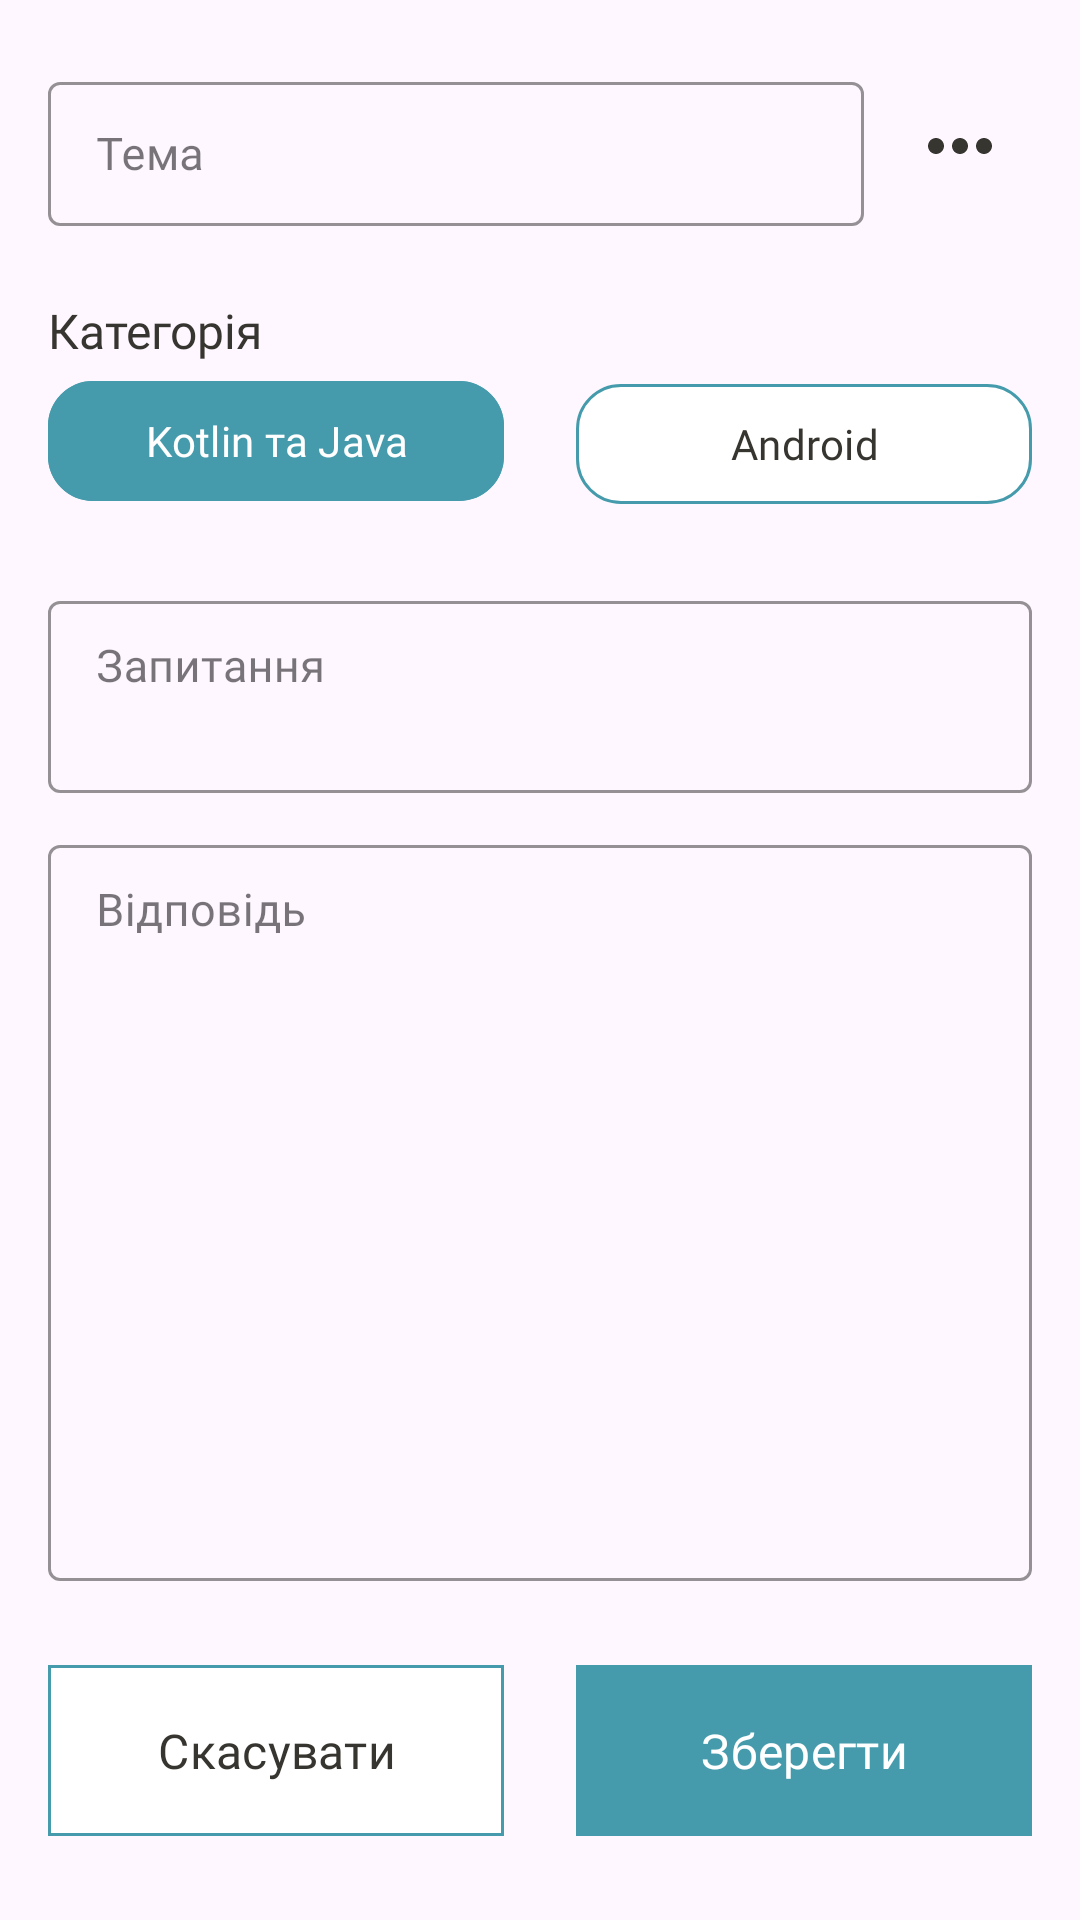

Icon click points for this 1080w x 1920h phone screenshot, format (x=x, y=y):
more: (x=960, y=146)
